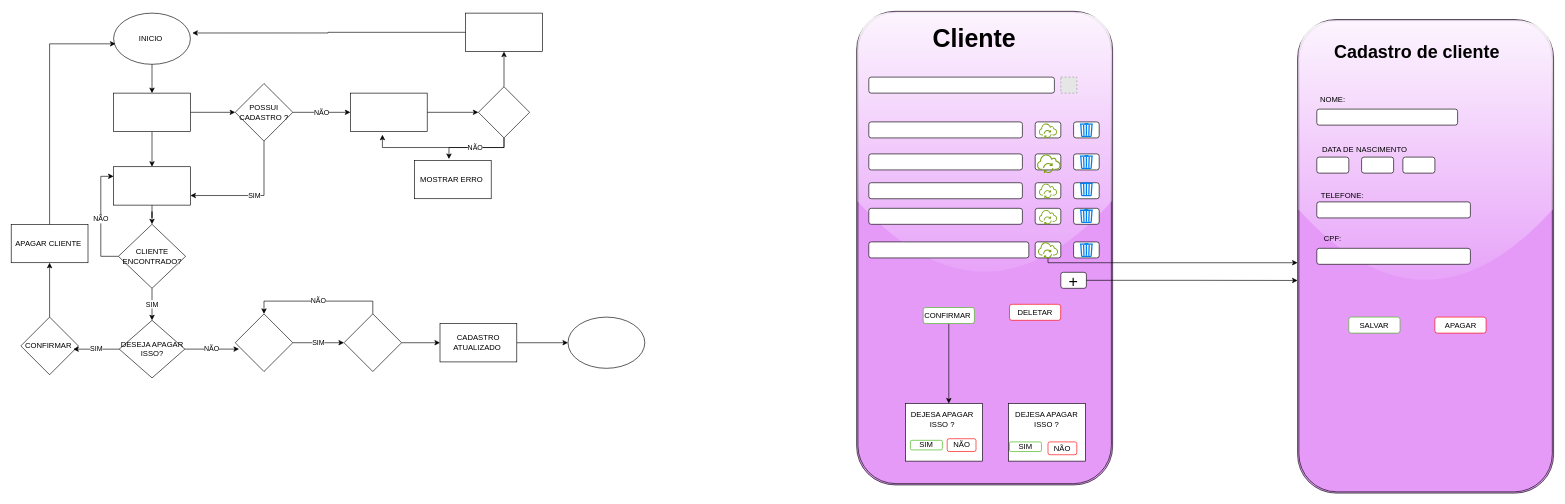
The diagram is 1565 pixels wide and 504 high, and some of its shapes have lost their labels. Grey dashed boxes stand in for pictures. Each missing label, with the box of its shape:
ATUALIZAR ?: (235, 313, 293, 372)
BUSCAR CLIENTE: (113, 166, 190, 205)
CADASTRADO COM SUCESSO: (465, 12, 542, 52)
CADASTRAR CLIENTE: (350, 92, 427, 132)
FIM: (567, 316, 645, 368)
LISTAR CLIENTE: (113, 92, 190, 132)
OS DADOS ÃO VALIDOS?: (343, 313, 402, 372)
É VALIDO?: (478, 86, 530, 138)
